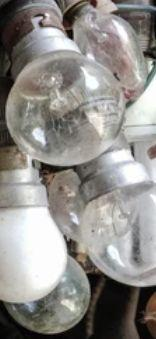light bulb: (0, 0, 128, 168), (74, 136, 156, 288), (0, 134, 71, 306), (0, 235, 92, 338), (58, 0, 152, 93)
